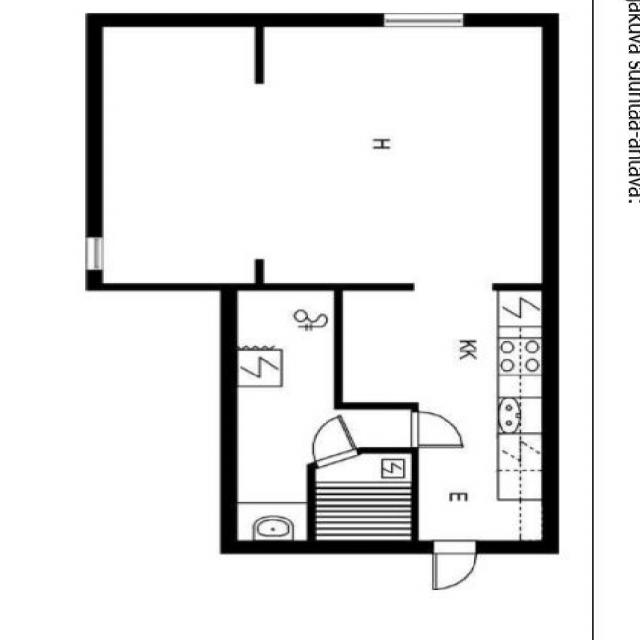door: (301, 416, 359, 467), (432, 541, 477, 590), (412, 411, 462, 447)
